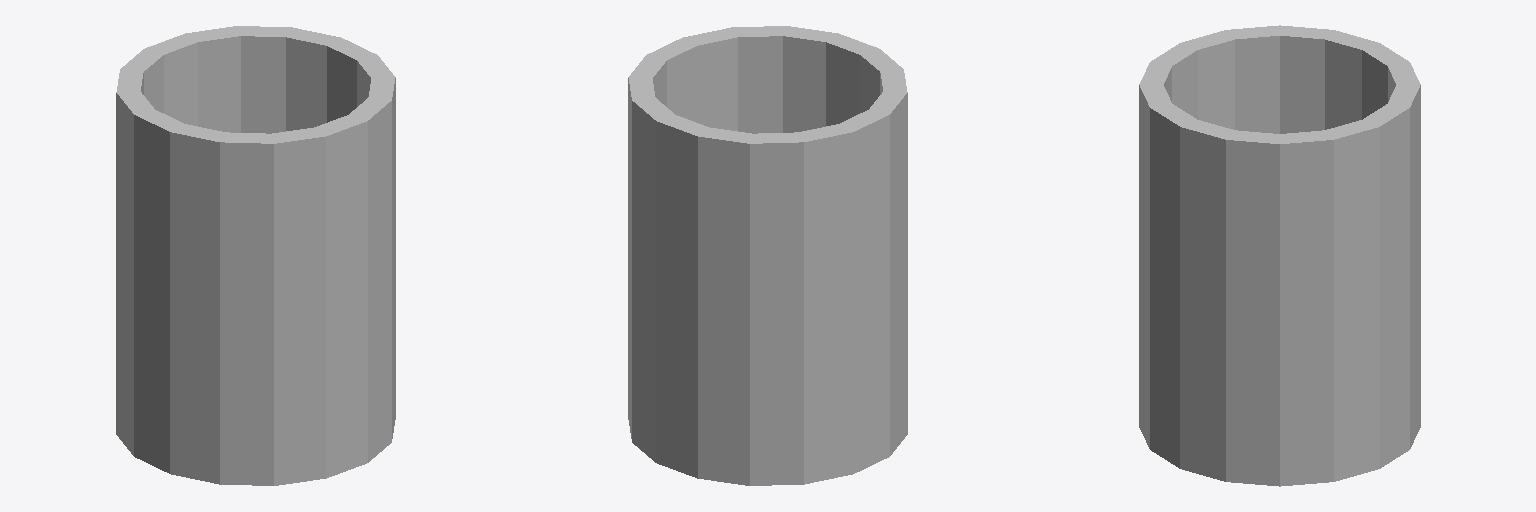
Rendered from glass.obj.
3 views of the same model, side by side, from view 1: azimuth 30°, elevation 25°; view 2: azimuth 150°, elevation 25°; view 3: azimuth 270°, elevation 25° (orthographic).
Visible parts, largest first — view 1: Cylinder; view 2: Cylinder; view 3: Cylinder.
Part boxes in pixels (left/top/right/bottom): Cylinder: left=116, top=26, right=395, bottom=485; Cylinder: left=628, top=26, right=907, bottom=485; Cylinder: left=1139, top=25, right=1420, bottom=486.
Size of the model in its own units: 2 by 2.68 by 2.